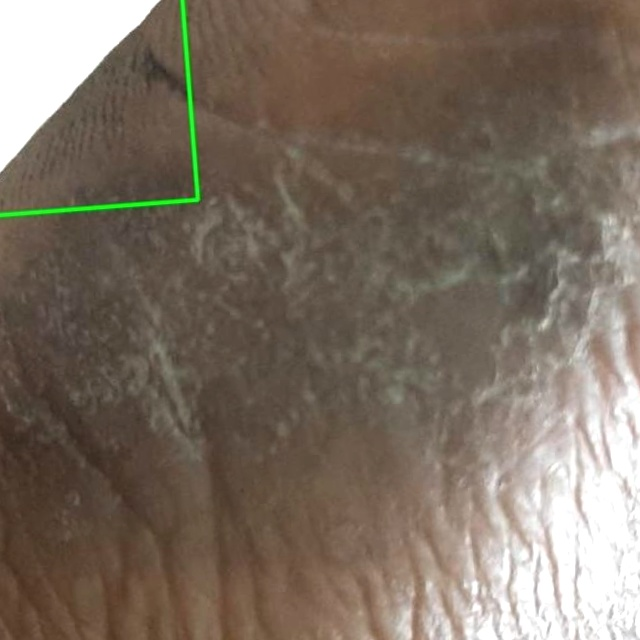Eczema: (0, 0, 198, 215)
